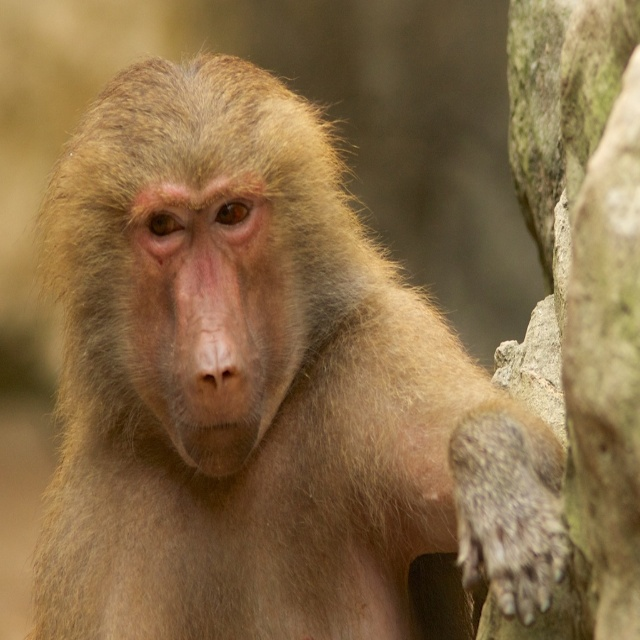Monkey: (15, 27, 594, 636)
